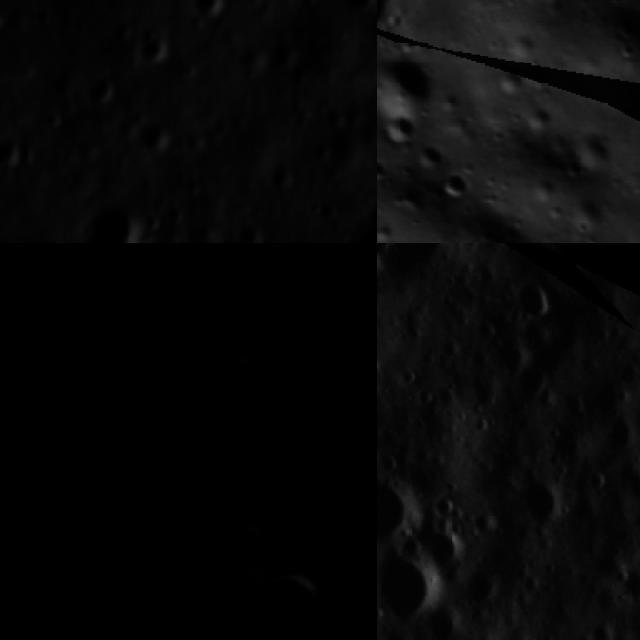crater: (190, 254, 338, 405), (377, 528, 459, 640), (500, 450, 593, 544), (251, 553, 343, 640), (199, 500, 288, 586), (377, 446, 436, 569), (377, 48, 452, 142), (2, 399, 80, 476), (319, 265, 377, 367), (498, 267, 567, 342), (95, 324, 167, 393), (501, 345, 570, 411), (413, 516, 478, 586), (451, 558, 513, 619), (414, 592, 477, 640), (85, 200, 151, 243), (278, 396, 329, 444), (377, 243, 441, 279), (269, 24, 311, 77), (140, 113, 187, 159), (434, 164, 484, 207), (270, 420, 314, 466), (0, 126, 38, 177), (169, 296, 213, 340), (137, 24, 178, 71), (85, 64, 122, 116), (377, 611, 438, 640), (334, 400, 374, 440), (235, 207, 276, 243), (261, 452, 294, 488), (320, 243, 355, 276), (82, 543, 113, 579), (185, 0, 231, 22), (237, 633, 340, 640), (0, 4, 13, 36), (0, 227, 23, 243), (369, 356, 377, 396)
